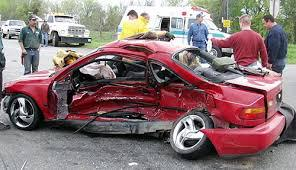Rear-windscreen-Damage: (176, 45, 232, 72)
doorouter-dent: (55, 71, 144, 127), (153, 67, 200, 120)
rear-bumper-dent: (219, 118, 290, 155)
roof-dent: (101, 39, 166, 52)
